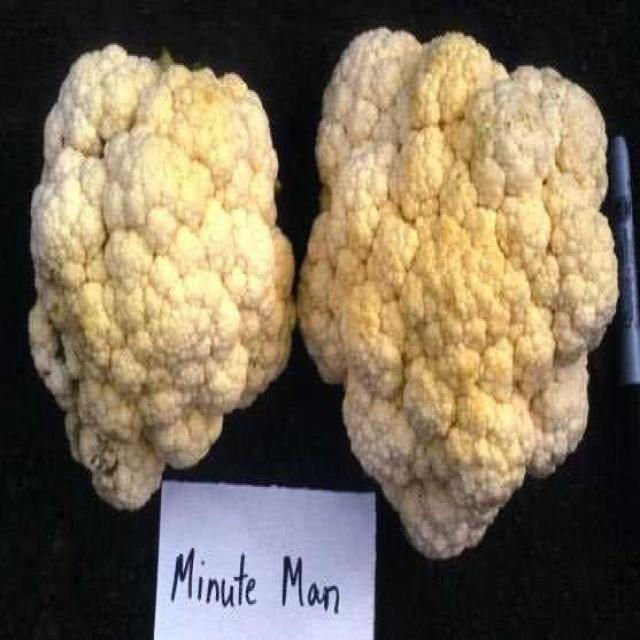cauliflower: (309, 15, 640, 562), (43, 8, 307, 527)
